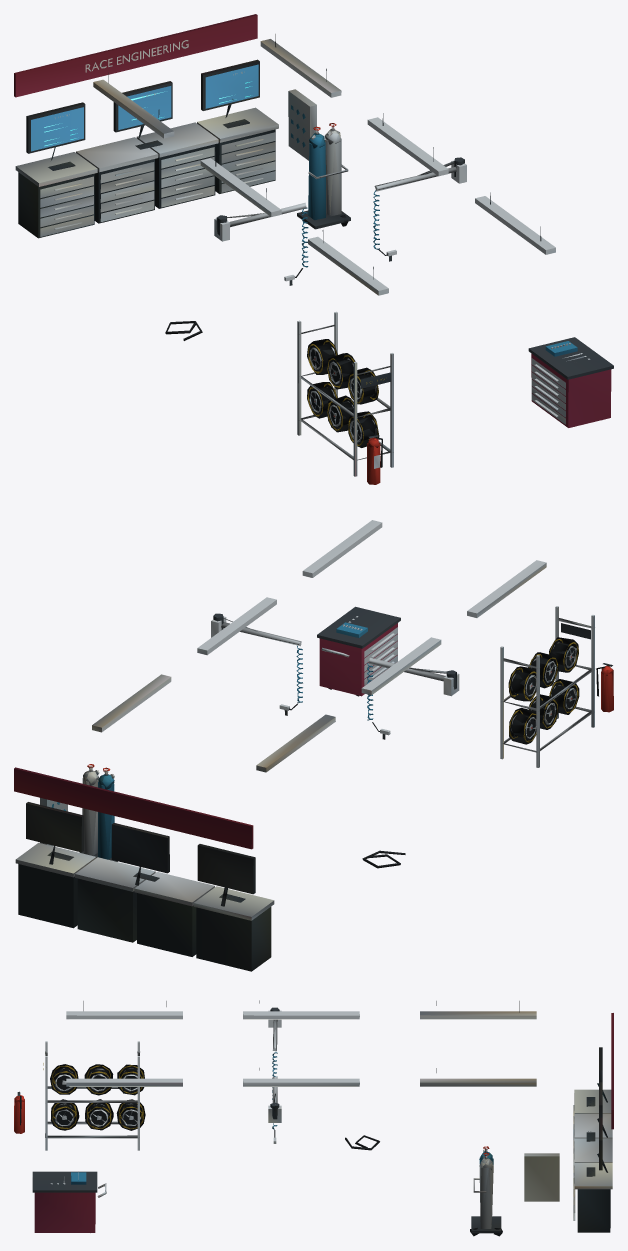
File: pit_kit_0.glb
The picture shows the model from 3 angles, top to bottom: view 1: azimuth 30°, elevation 25°; view 2: azimuth 150°, elevation 25°; view 3: azimuth 270°, elevation 25°; orthographic projection. The views are drawn at different scales.
Visible parts, largest first — view 1: kit_0; view 2: kit_0; view 3: kit_0.
Boxes of the visible parts, x1,y1,x2,y2 form: kit_0: (14, 14, 613, 484); kit_0: (14, 520, 613, 971); kit_0: (14, 1000, 613, 1236).
Bounding box in the file's own units: 5.53 × 3.79 × 13.57.
